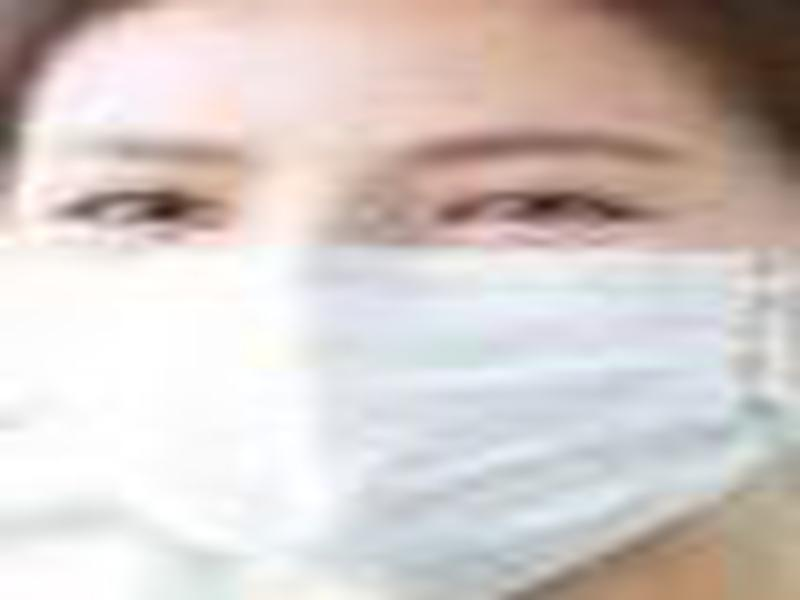with_mask: (1, 1, 796, 596)
